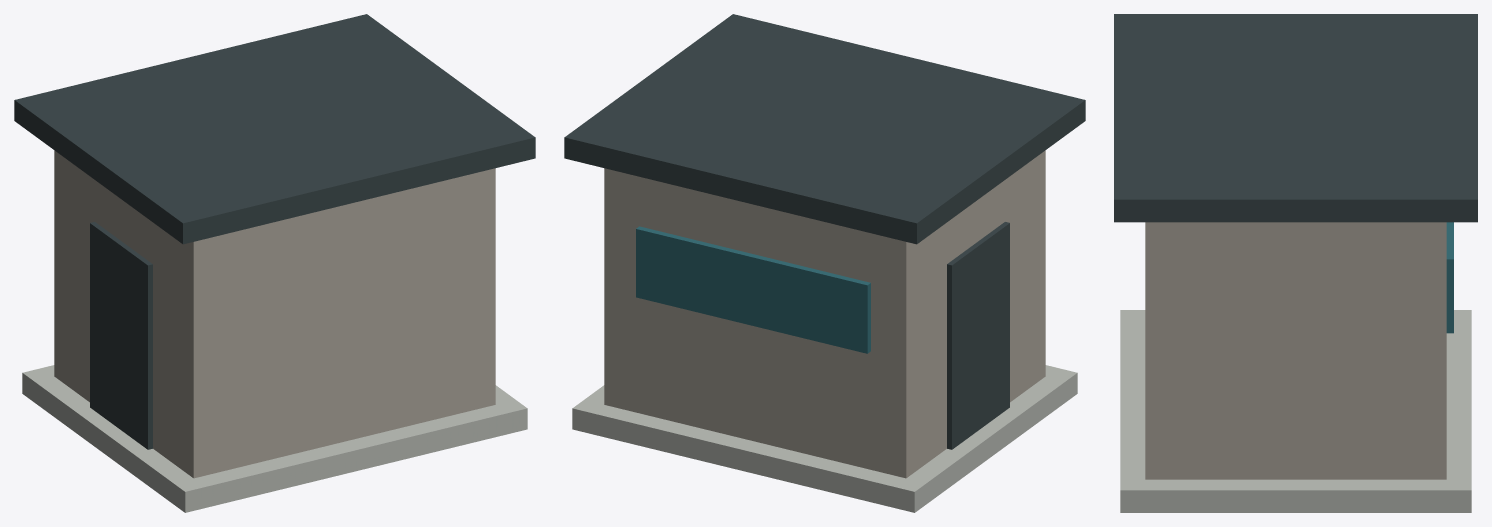
Rendered from MIL_GuardHut.fbx.
3 views of the same model, side by side, from view 1: azimuth 30°, elevation 25°; view 2: azimuth 150°, elevation 25°; view 3: azimuth 270°, elevation 25° (orthographic). The views are drawn at different scales.
Visible parts, largest first — view 1: Walls.003, MIL_GuardHut_Gunmetal, Base.001; view 2: MIL_GuardHut_Gunmetal, Walls.003, Base.001, Glass; view 3: Walls.003, MIL_GuardHut_Gunmetal, Base.001, Glass.
Boxes of the visible parts, <box> form: Walls.003: <box>54,150,495,478</box>; MIL_GuardHut_Gunmetal: <box>14,14,535,449</box>; Base.001: <box>22,365,527,512</box>; MIL_GuardHut_Gunmetal: <box>564,14,1085,449</box>; Walls.003: <box>604,150,1045,478</box>; Base.001: <box>572,365,1077,512</box>; Glass: <box>636,226,870,353</box>; Walls.003: <box>1145,222,1446,479</box>; MIL_GuardHut_Gunmetal: <box>1114,14,1477,222</box>; Base.001: <box>1120,310,1471,512</box>; Glass: <box>1446,222,1453,333</box>.
Bounding box in the file's own units: 350 × 278 × 290.
